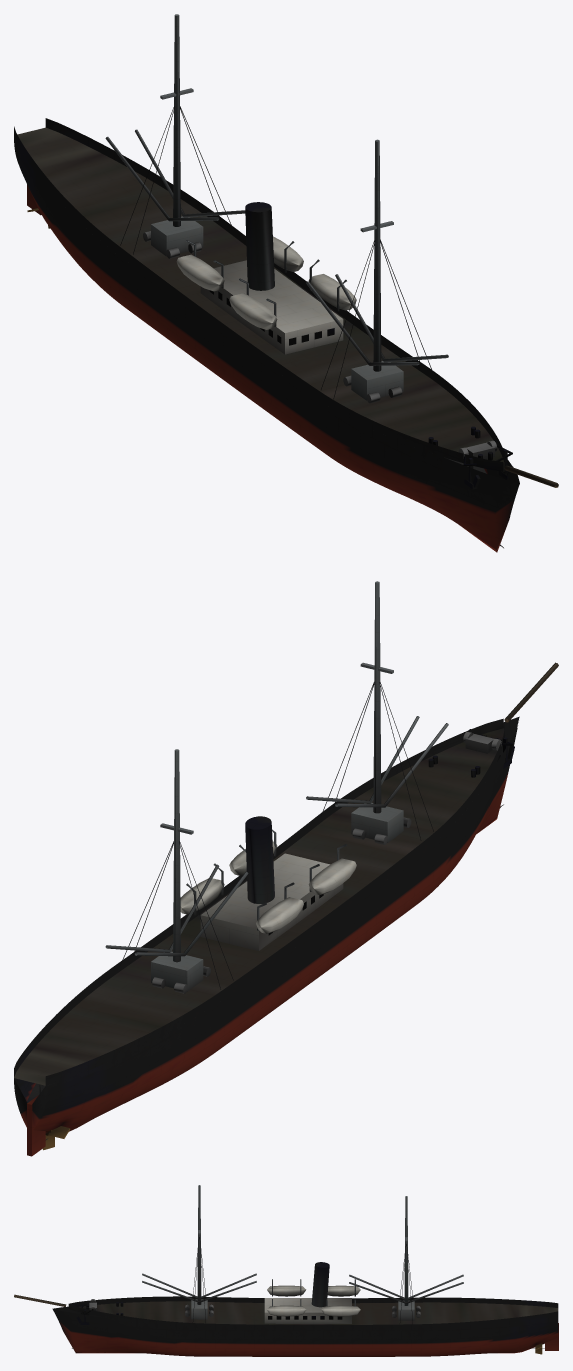
The model's file is model_built.glb.
3 renders of one model, top to bottom at view 1: azimuth 30°, elevation 25°; view 2: azimuth 150°, elevation 25°; view 3: azimuth 270°, elevation 25°, orthographic. The views are drawn at different scales.
Visible parts, largest first — view 1: main; view 2: main; view 3: main.
Part boxes in pixels (x1,y1,x2,y2): main: (14,14,558,552); main: (14,581,558,1156); main: (14,1185,558,1356).
Size of the model in its own units: 11.6 by 34.05 by 100.
Materials: 2 (2 with a texture image).
